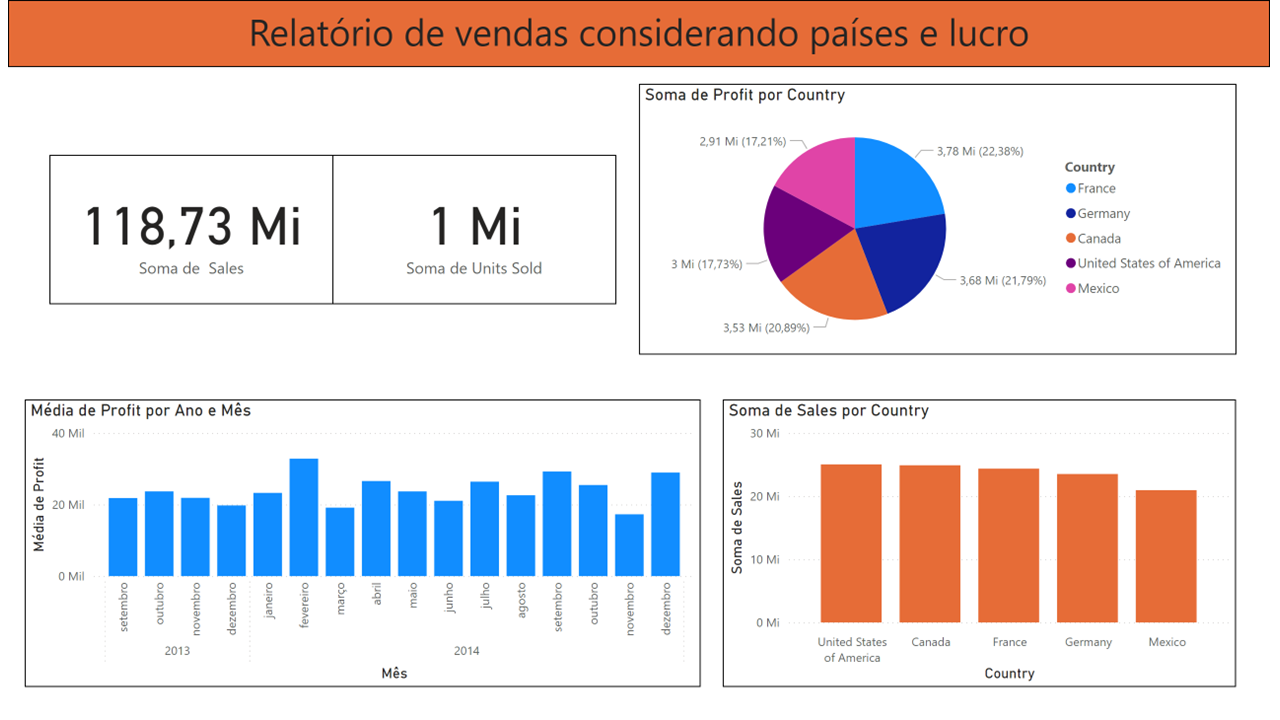

The page's visual inventory and layout, read from the dashboard file:
{"tool":"powerbi","page":{"name":"Página 2","canvas":[1280,720],"ordinal":1},"visuals":[{"type":"textbox","box":[0,0,1280,68.2],"z":0},{"type":"card","fields":{"Values":["Sum(financials. Sales)"]},"box":[41.7,157.2,287.8,151.5],"z":1000},{"type":"card","fields":{"Values":["Sum(financials.Units Sold)"]},"box":[329.5,157.2,287.8,151.5],"z":2000},{"type":"pieChart","fields":{"Category":["financials.Country"],"Y":["Sum(financials.Profit)"]},"box":[640,85.2,605.9,274.6],"z":3000},{"type":"clusteredColumnChart","fields":{"Category":["financials.Date.Variation.Hierarquia de datas.Ano","financials.Date.Variation.Hierarquia de datas.Mês"],"Y":["Avg(financials.Profit)"]},"box":[17,405.2,685.4,291.6],"z":4000},{"type":"clusteredColumnChart","fields":{"Category":["financials.Country"],"Y":["Sum(financials. Sales)"]},"box":[725.2,405.2,520.7,291.6],"z":4001}]}

Visuals, with their boxes in screenshot pixels (x1, y1, x2, y2), scaled from the page's 1280x720 canvas onto the 1280x720 screenshot:
textbox: (0, 0, 1279, 68)
card - Sum(financials. Sales): (42, 157, 330, 309)
card - Sum(financials.Units Sold): (330, 157, 617, 309)
pieChart - financials.Country x Sum(financials.Profit): (640, 85, 1246, 360)
clusteredColumnChart - financials.Date.Variation.Hierarquia de datas.Ano x financials.Date.Variation.Hierarquia de datas.Mês: (17, 405, 702, 697)
clusteredColumnChart - financials.Country x Sum(financials. Sales): (725, 405, 1246, 697)
